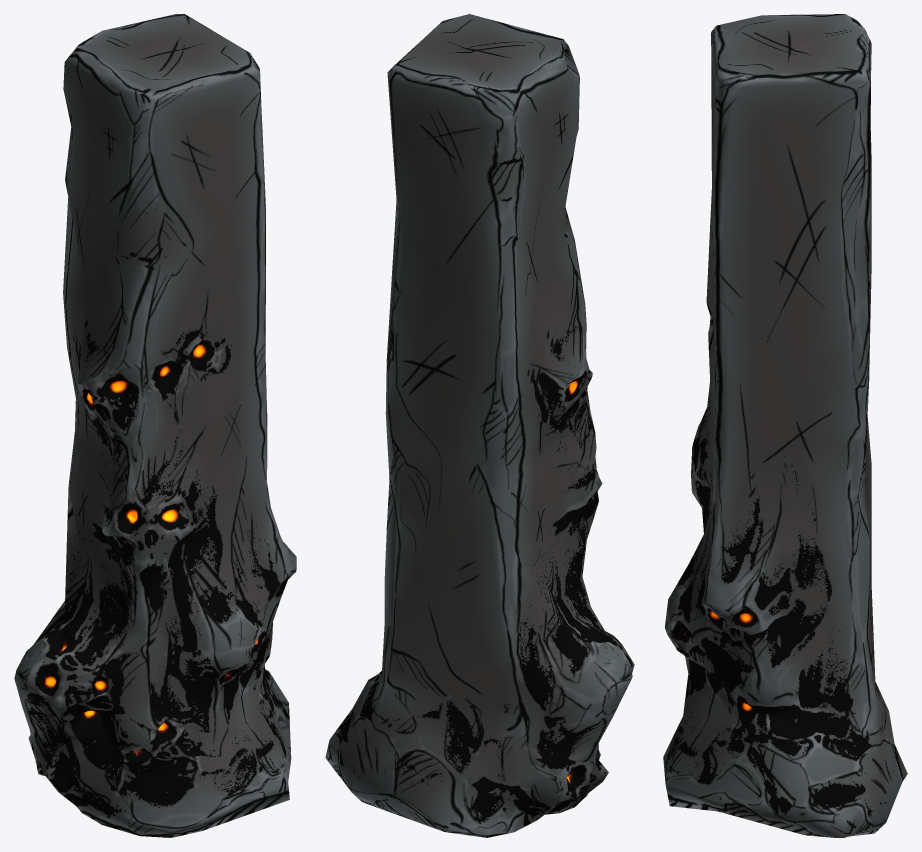
The model's file is stylized_stone_pillar.glb.
3 renders of one model, left to right at view 1: azimuth 30°, elevation 25°; view 2: azimuth 150°, elevation 25°; view 3: azimuth 270°, elevation 25°, orthographic.
Visible parts, largest first — view 1: Rock_LOD0; view 2: Rock_LOD0; view 3: Rock_LOD0.
Boxes of the visible parts, bbox=[...] form: Rock_LOD0: bbox=[14, 14, 296, 837]; Rock_LOD0: bbox=[325, 14, 634, 837]; Rock_LOD0: bbox=[663, 14, 907, 837].
Bounding box in the file's own units: 0.0403 × 0.103 × 0.0304.
1 material, 1 textured.
